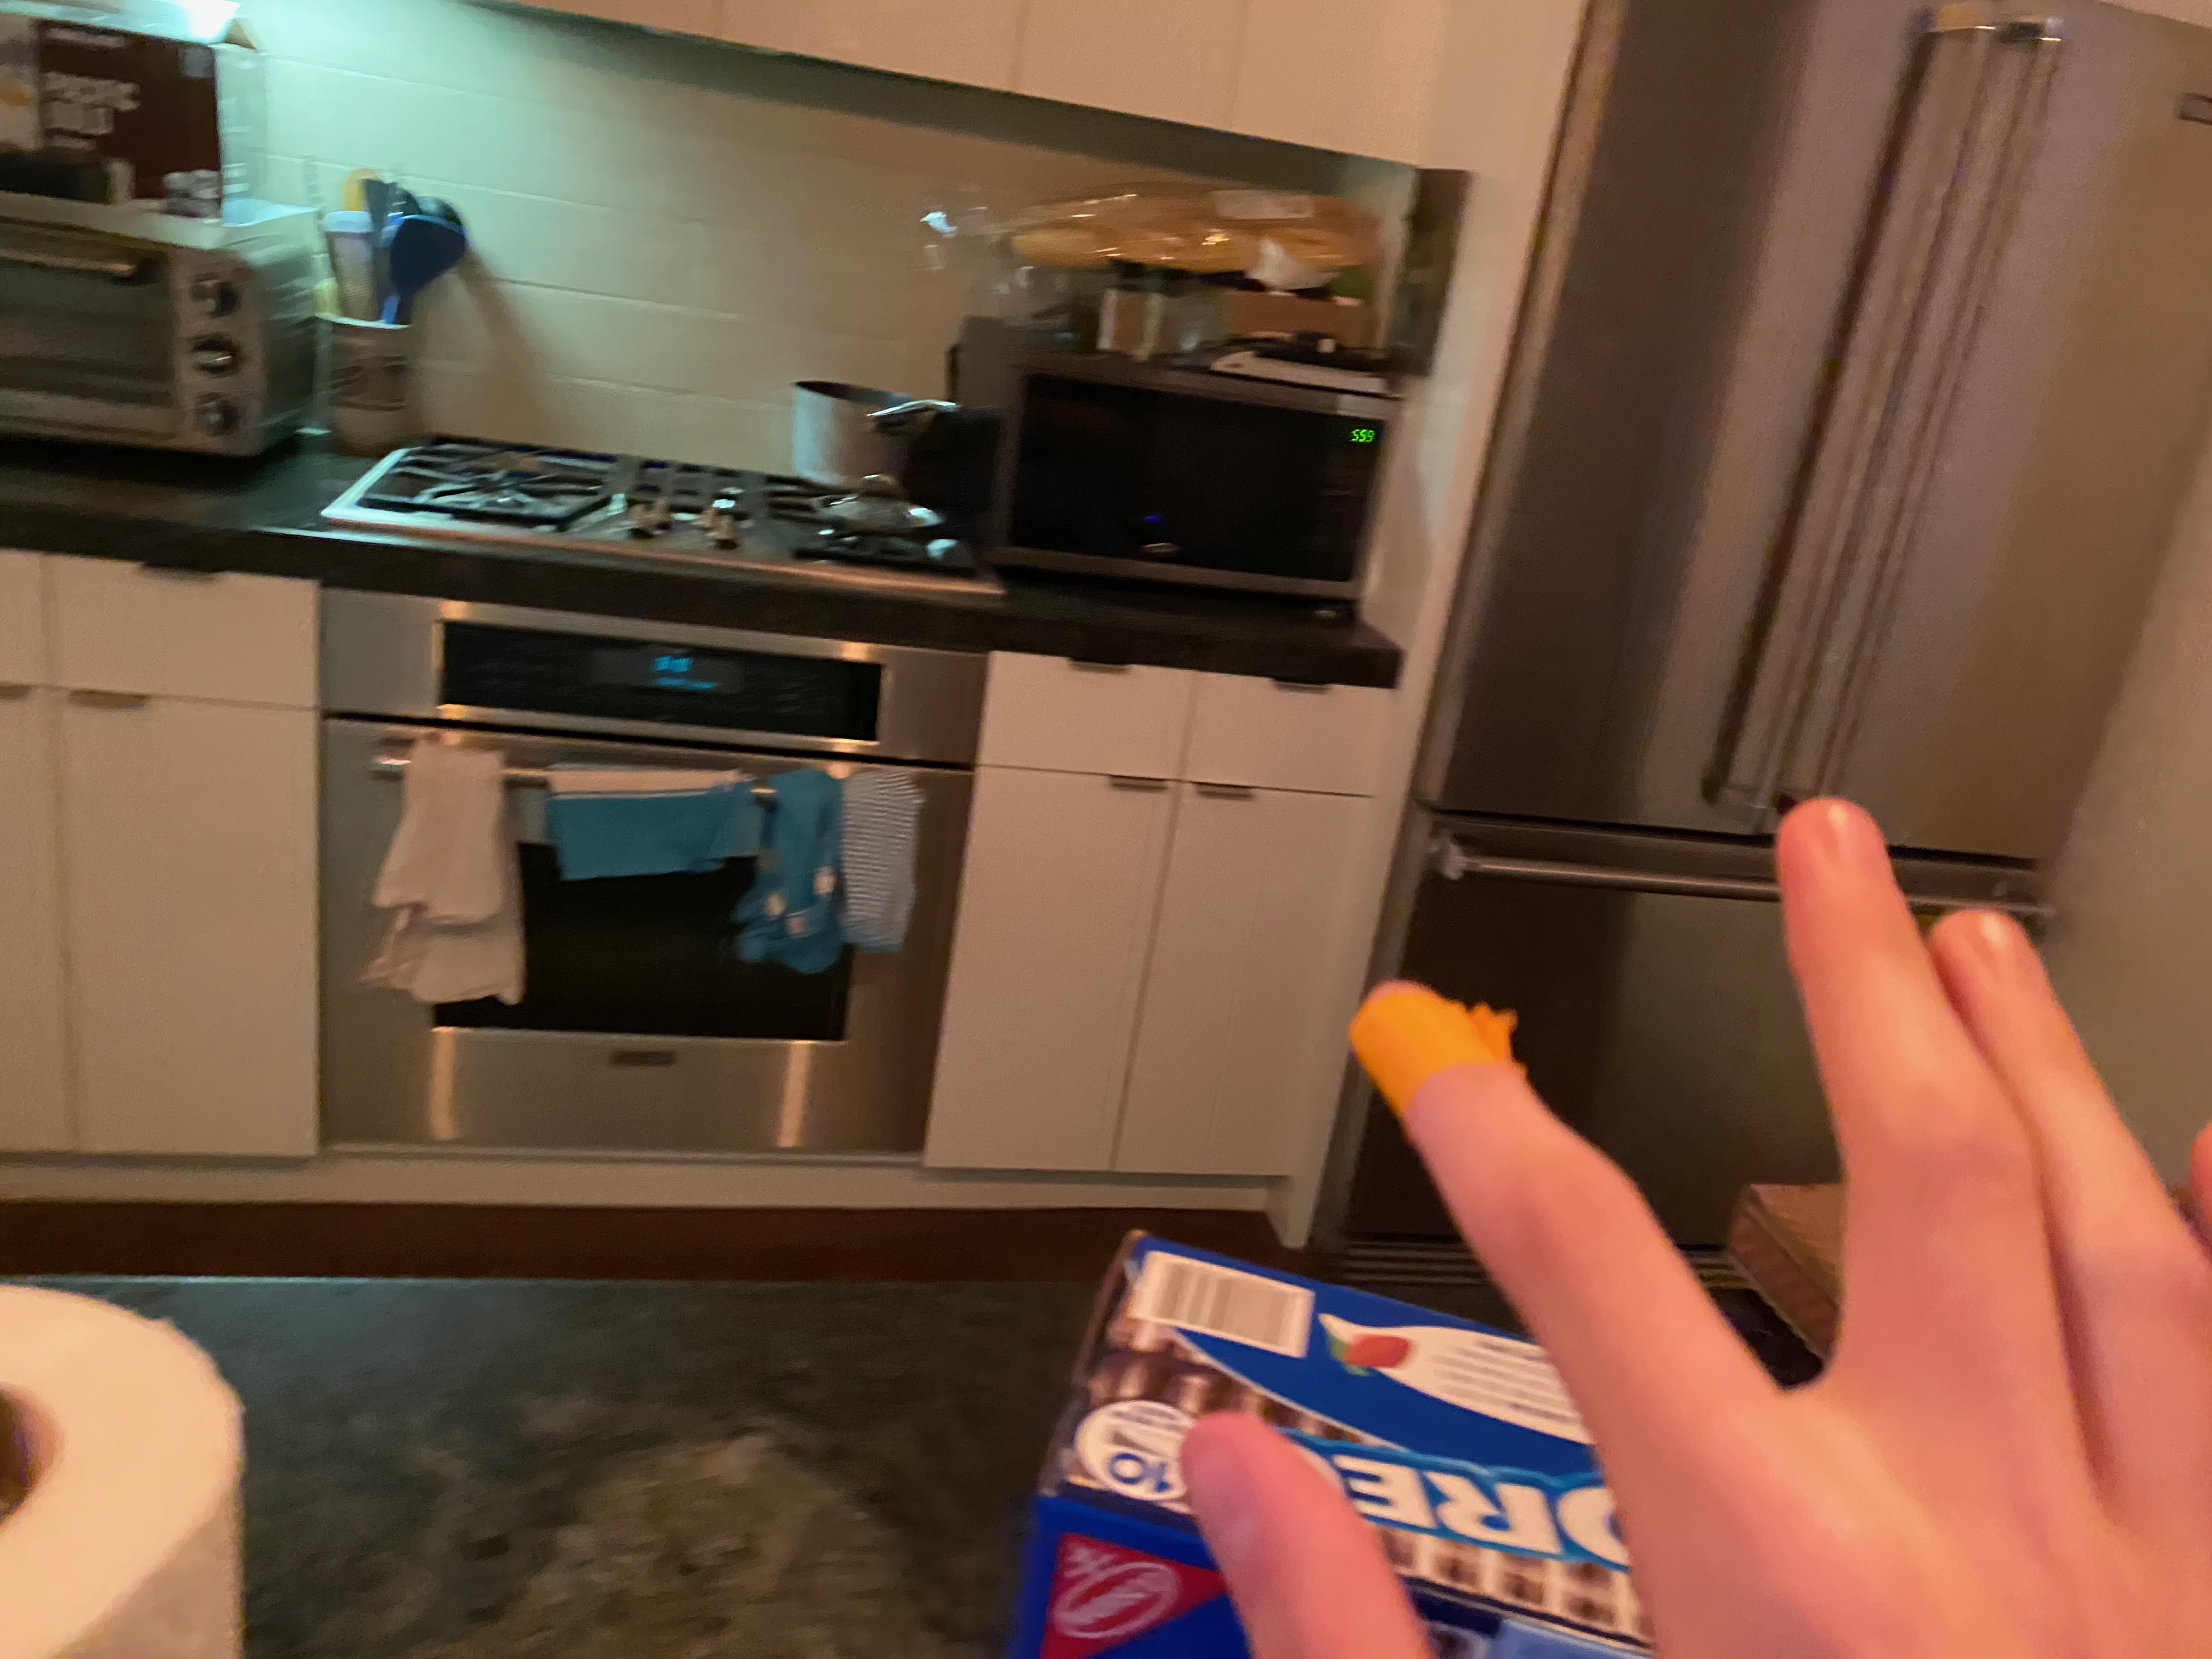fingertip: (1331, 965, 1536, 1157)
